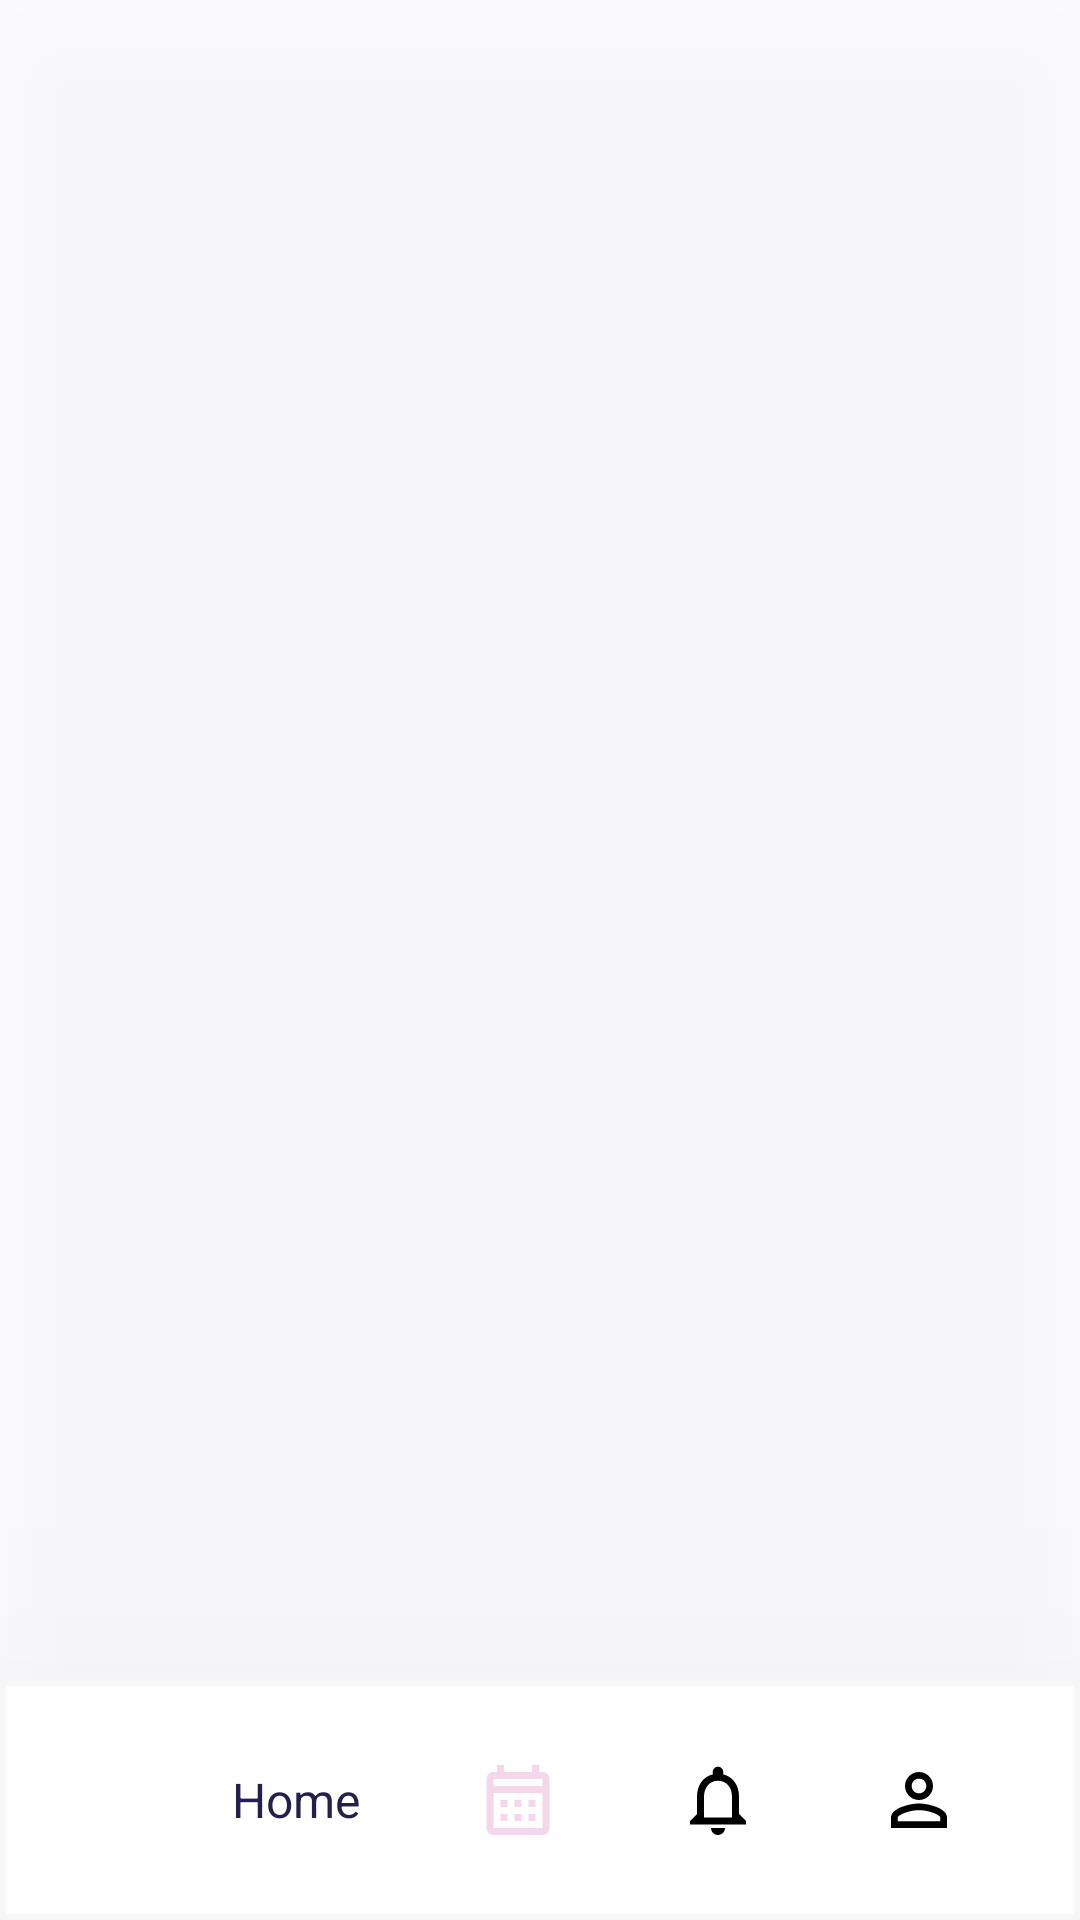

Where to tap for icons on this 1080×1920 app screen, as (x,y):
notificationbell: (718,1800)
profile: (919,1800)
schedule: (518,1800)
